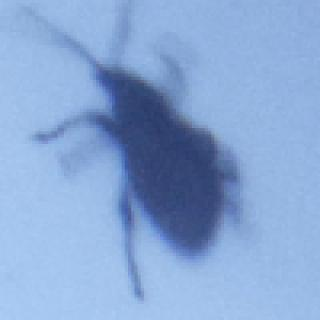bvw: (24, 3, 239, 302)
